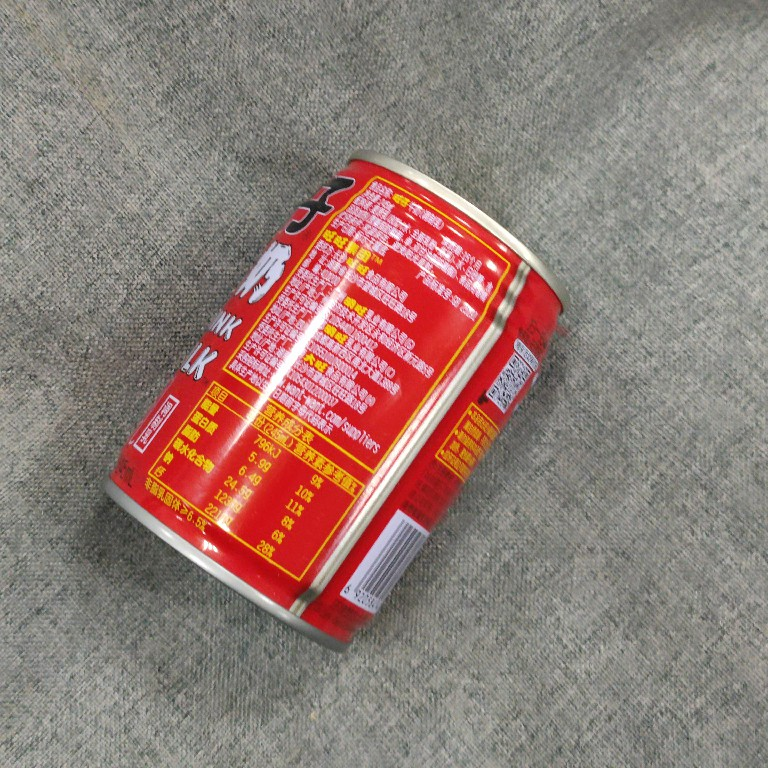can: (96, 143, 572, 657)
